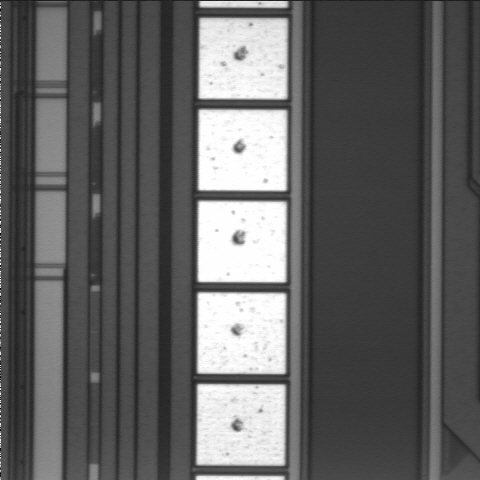pad: (198, 109, 287, 191), (197, 292, 286, 374), (197, 384, 285, 466), (198, 201, 287, 282), (199, 18, 287, 99)
